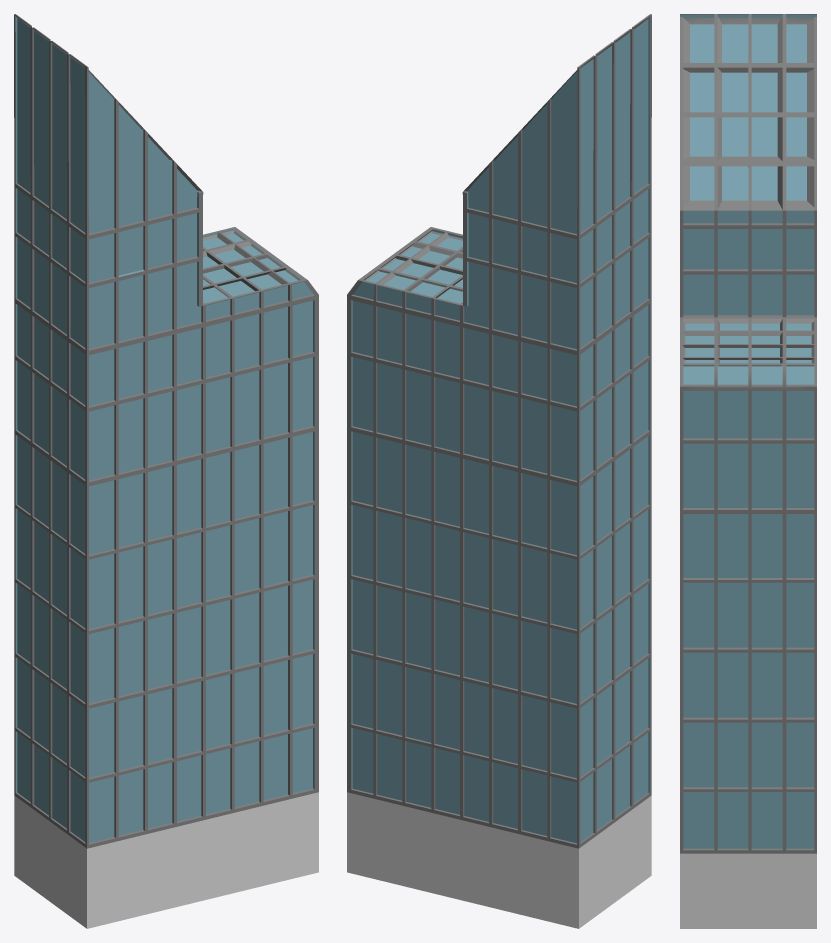
File: MM_house_04_final.fbx
The picture shows the model from 3 angles, left to right: view 1: azimuth 30°, elevation 25°; view 2: azimuth 150°, elevation 25°; view 3: azimuth 270°, elevation 25°; orthographic projection. The views are drawn at different scales.
Parts seen in each view (by area): view 1: pCube1; view 2: pCube1; view 3: pCube1.
Boxes of the visible parts, x1=… form: pCube1: x1=14, y1=14, x2=318, y2=928; pCube1: x1=347, y1=14, x2=651, y2=928; pCube1: x1=680, y1=14, x2=816, y2=928.
Bounding box in the file's own units: 14.7 × 52.15 × 8.
